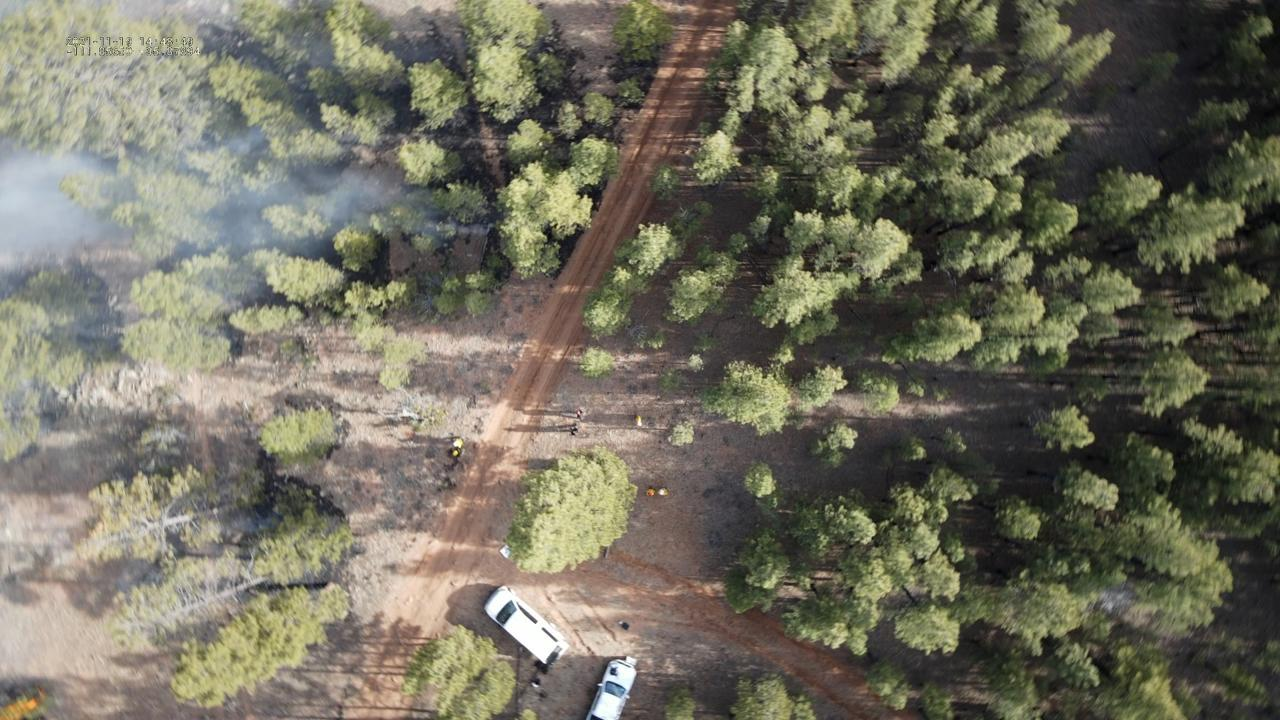smoke: (2, 121, 506, 282)
